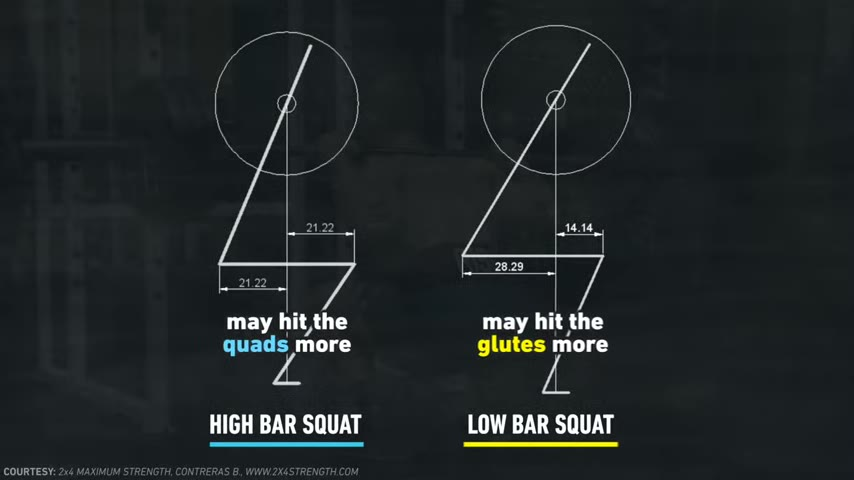barbell_plate_side: (206, 30, 264, 180), (583, 18, 636, 180), (313, 30, 368, 181), (475, 13, 521, 178)
